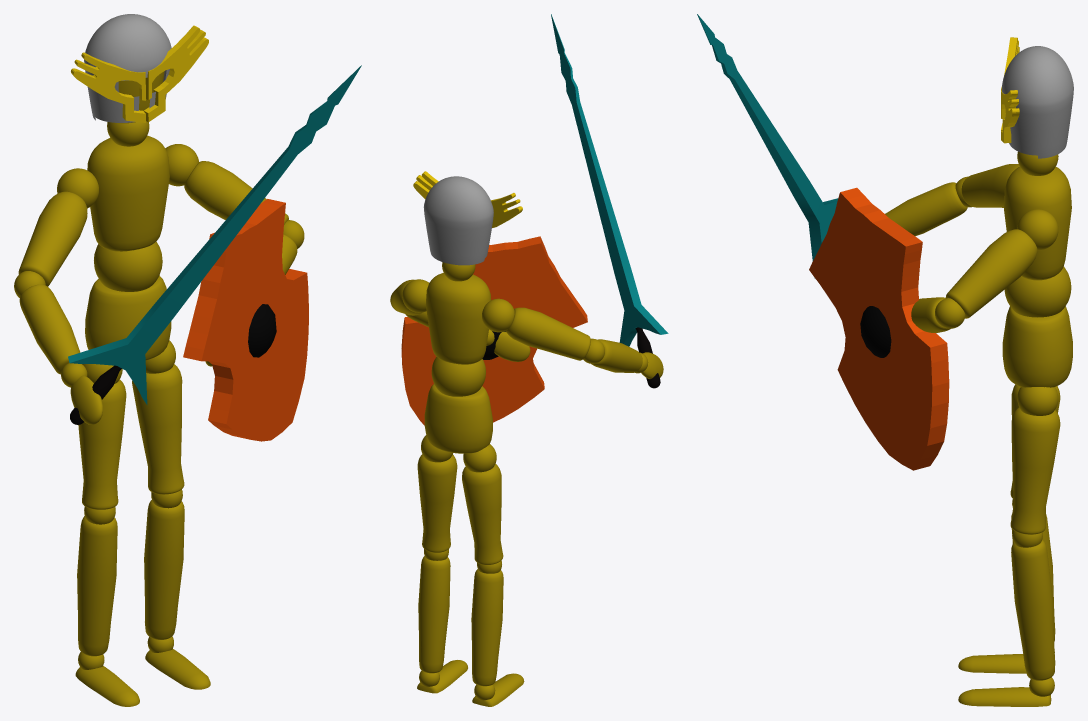
The model's file is juggernaught.fbx.
3 views of the same model, side by side, from view 1: azimuth 30°, elevation 25°; view 2: azimuth 150°, elevation 25°; view 3: azimuth 270°, elevation 25° (orthographic). The views are drawn at different scales.
Visible parts, largest first — view 1: dagger_3; view 2: dagger_3; view 3: dagger_3.
Boxes of the visible parts, x1,y1,x2,y2 form: dagger_3: [14, 14, 361, 706]; dagger_3: [390, 14, 668, 706]; dagger_3: [697, 14, 1073, 706].
Bounding box in the file's own units: 84.4 × 199 × 97.29.
